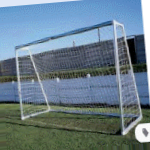goals: (14, 17, 143, 138)
